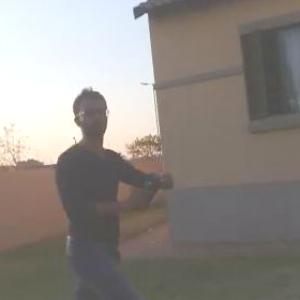follow: (58, 74, 185, 299)
